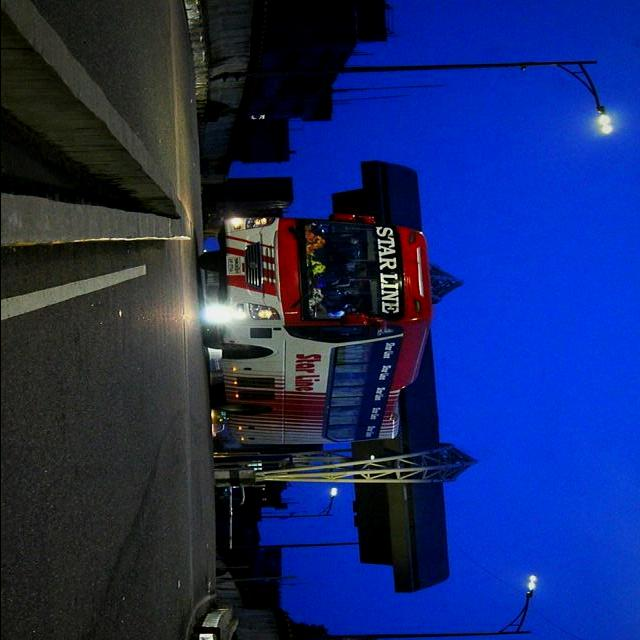bus: (198, 215, 431, 447)
